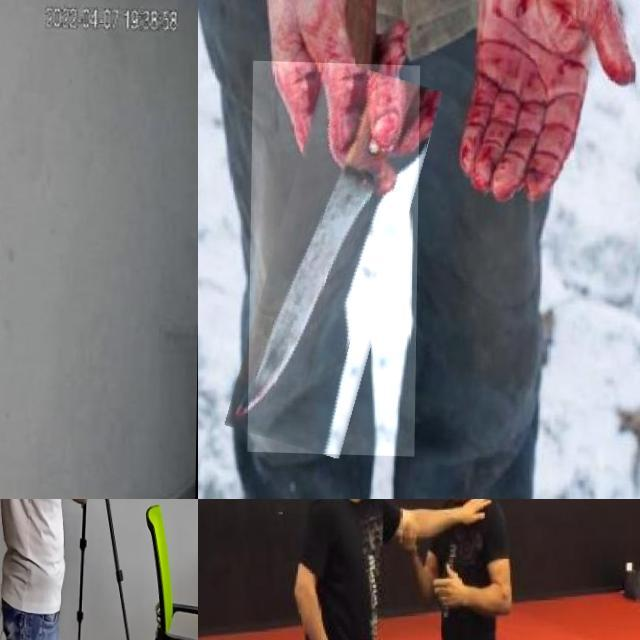-: (250, 59, 420, 454), (0, 157, 75, 499)
gun-knife-thesis - v11 Yolov5 augmented: (69, 499, 121, 549)
